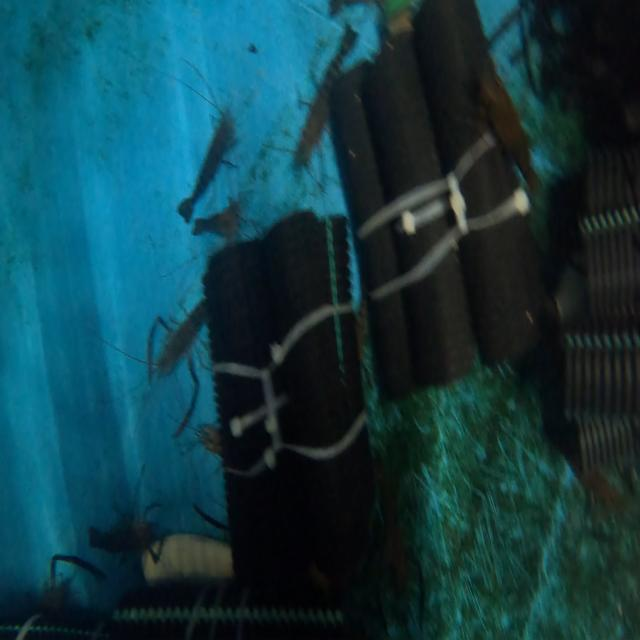prawn: (178, 111, 234, 222), (157, 300, 206, 373), (293, 88, 328, 168), (89, 519, 154, 553), (192, 204, 239, 241)
